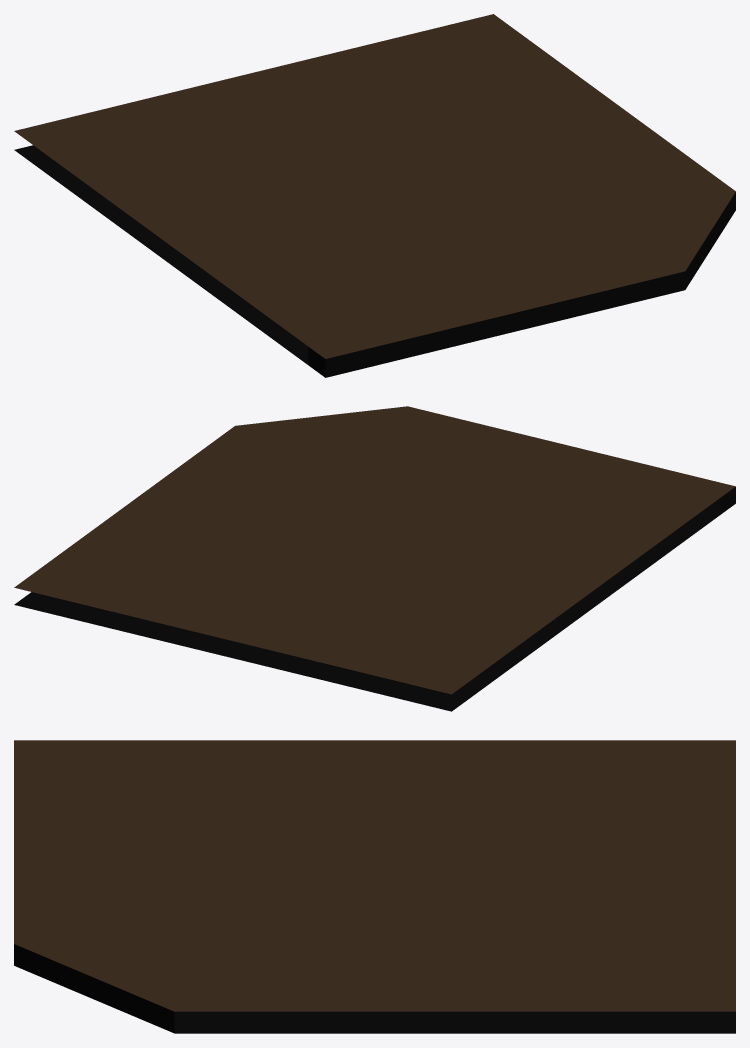
The model's file is SH_lvl1_Floor_01.fbx.
3 renders of one model, top to bottom at view 1: azimuth 30°, elevation 25°; view 2: azimuth 150°, elevation 25°; view 3: azimuth 270°, elevation 25°, orthographic. The views are drawn at different scales.
Parts seen in each view (by area): view 1: Cube.129; view 2: Cube.129; view 3: Cube.129.
Boxes of the visible parts, left/top/right/bottom form: Cube.129: left=14, top=14, right=735, bottom=377; Cube.129: left=14, top=406, right=735, bottom=711; Cube.129: left=14, top=740, right=735, bottom=1033.
Size of the model in its own units: 9 by 8 by 0.3.
